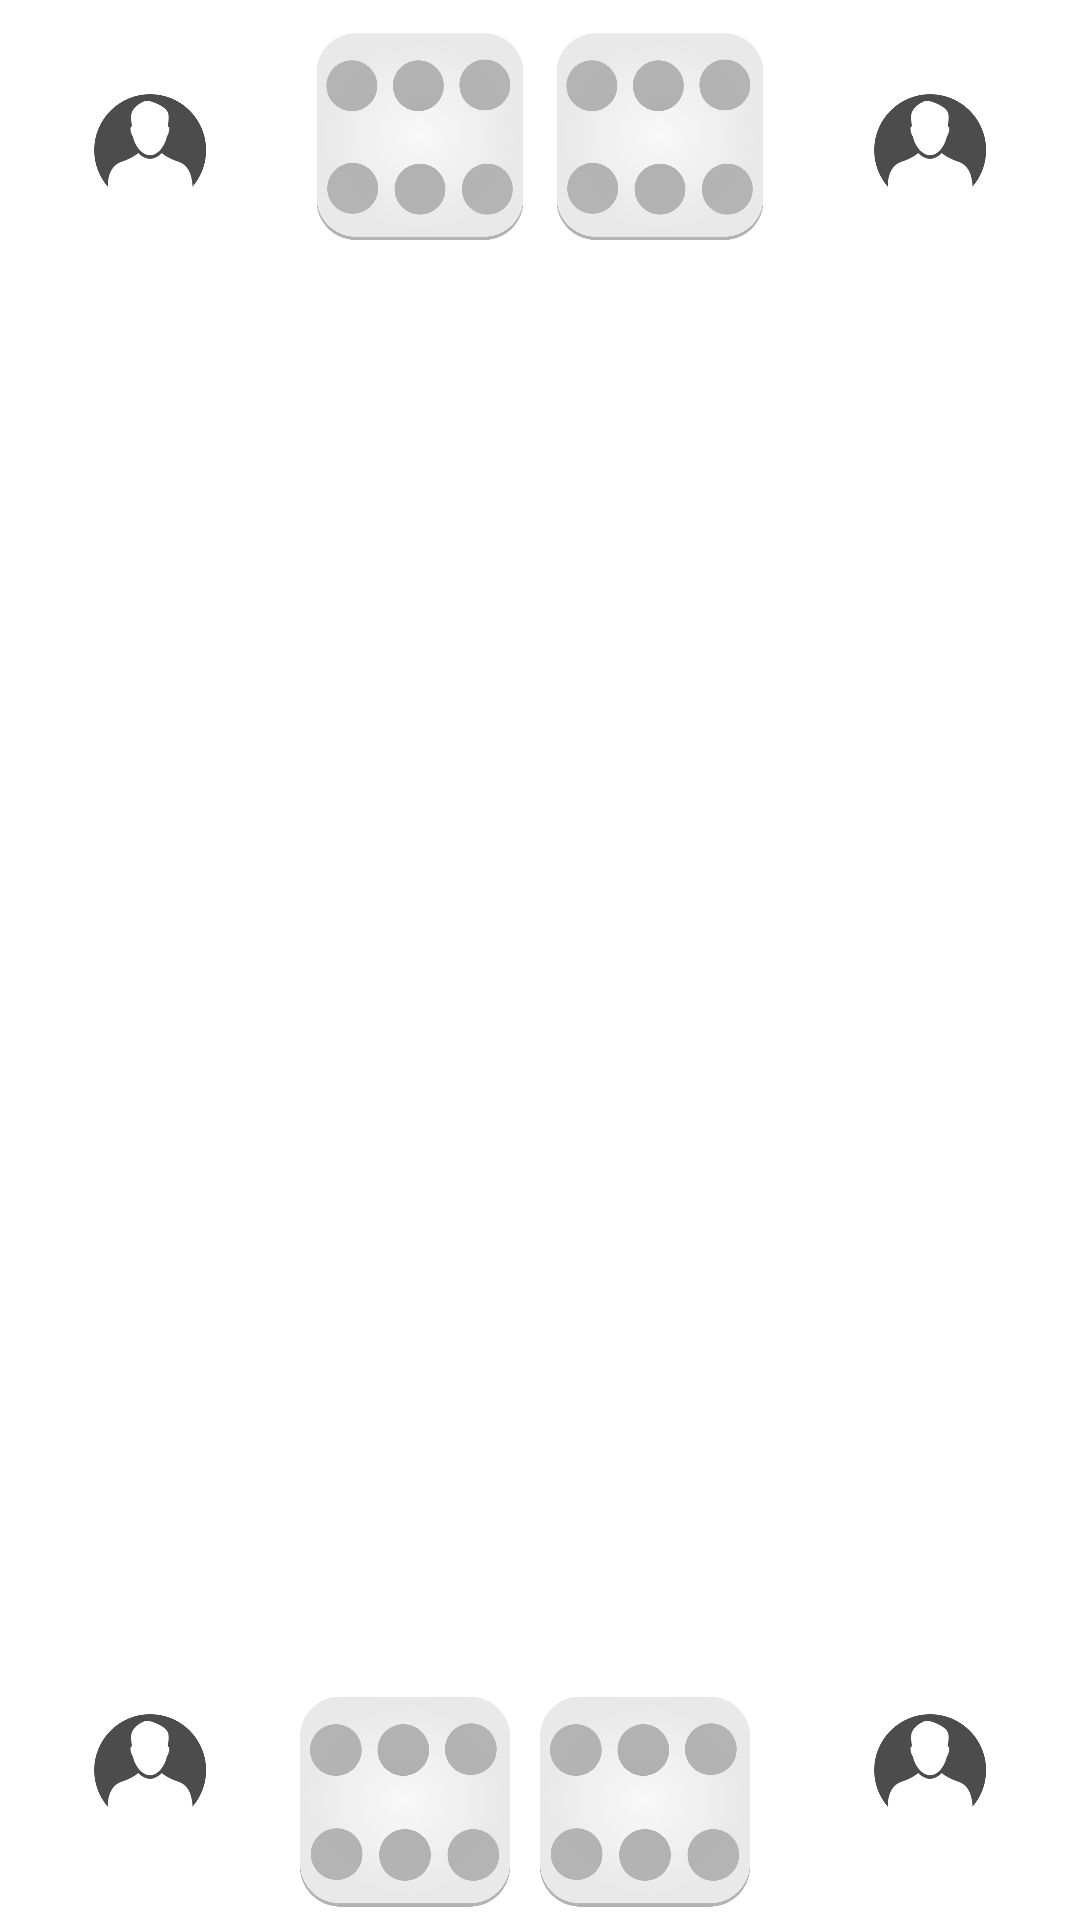

Icons on this 1080px×1920px Android screen, each with the point to tap as (x,y):
dado shine: (420,136), (660,136), (405,1802), (645,1802)
iconnick: (150,140), (930,140), (150,1760), (930,1760)
